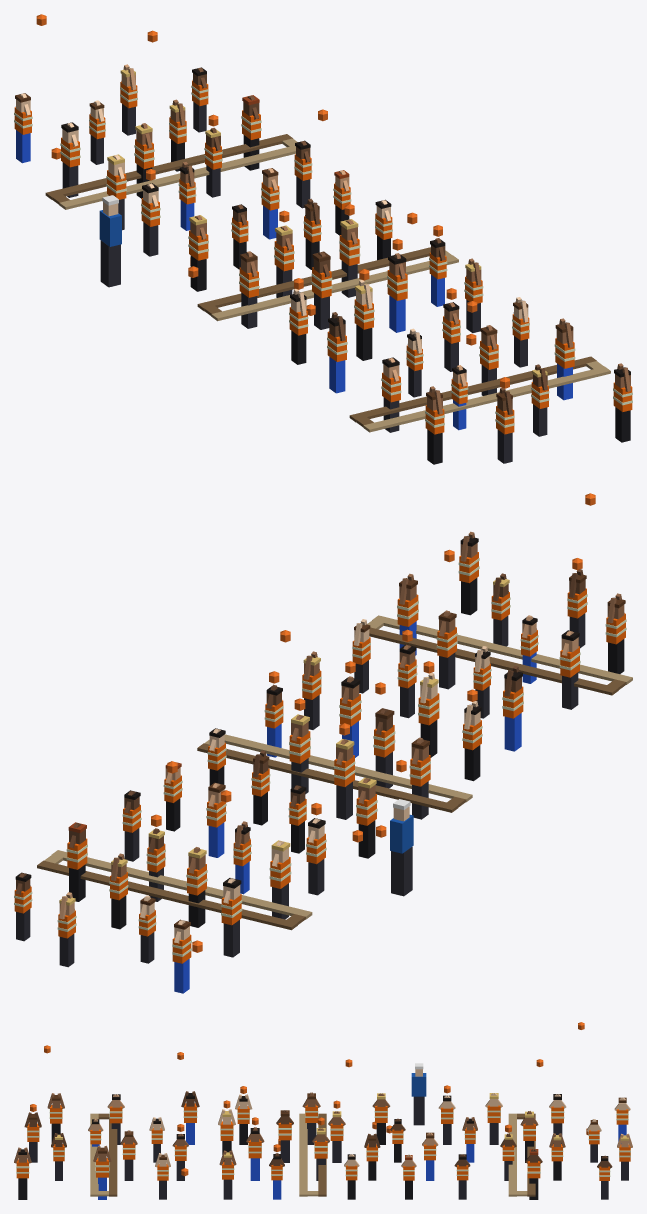
Rendered from alumnos_basquet_0.obj.
The picture shows the model from 3 angles, top to bottom: view 1: azimuth 30°, elevation 25°; view 2: azimuth 150°, elevation 25°; view 3: azimuth 270°, elevation 25°; orthographic projection. The views are drawn at different scales.
Parts seen in each view (by area): view 1: alumnos_basquet_0; view 2: alumnos_basquet_0; view 3: alumnos_basquet_0.
Boxes of the visible parts, box(x1,y1,x2,y2) form: alumnos_basquet_0: box(14, 14, 632, 464); alumnos_basquet_0: box(14, 493, 632, 993); alumnos_basquet_0: box(14, 1022, 632, 1199).
Bounding box in the file's own units: 6.09 × 3.74 × 17.76.
